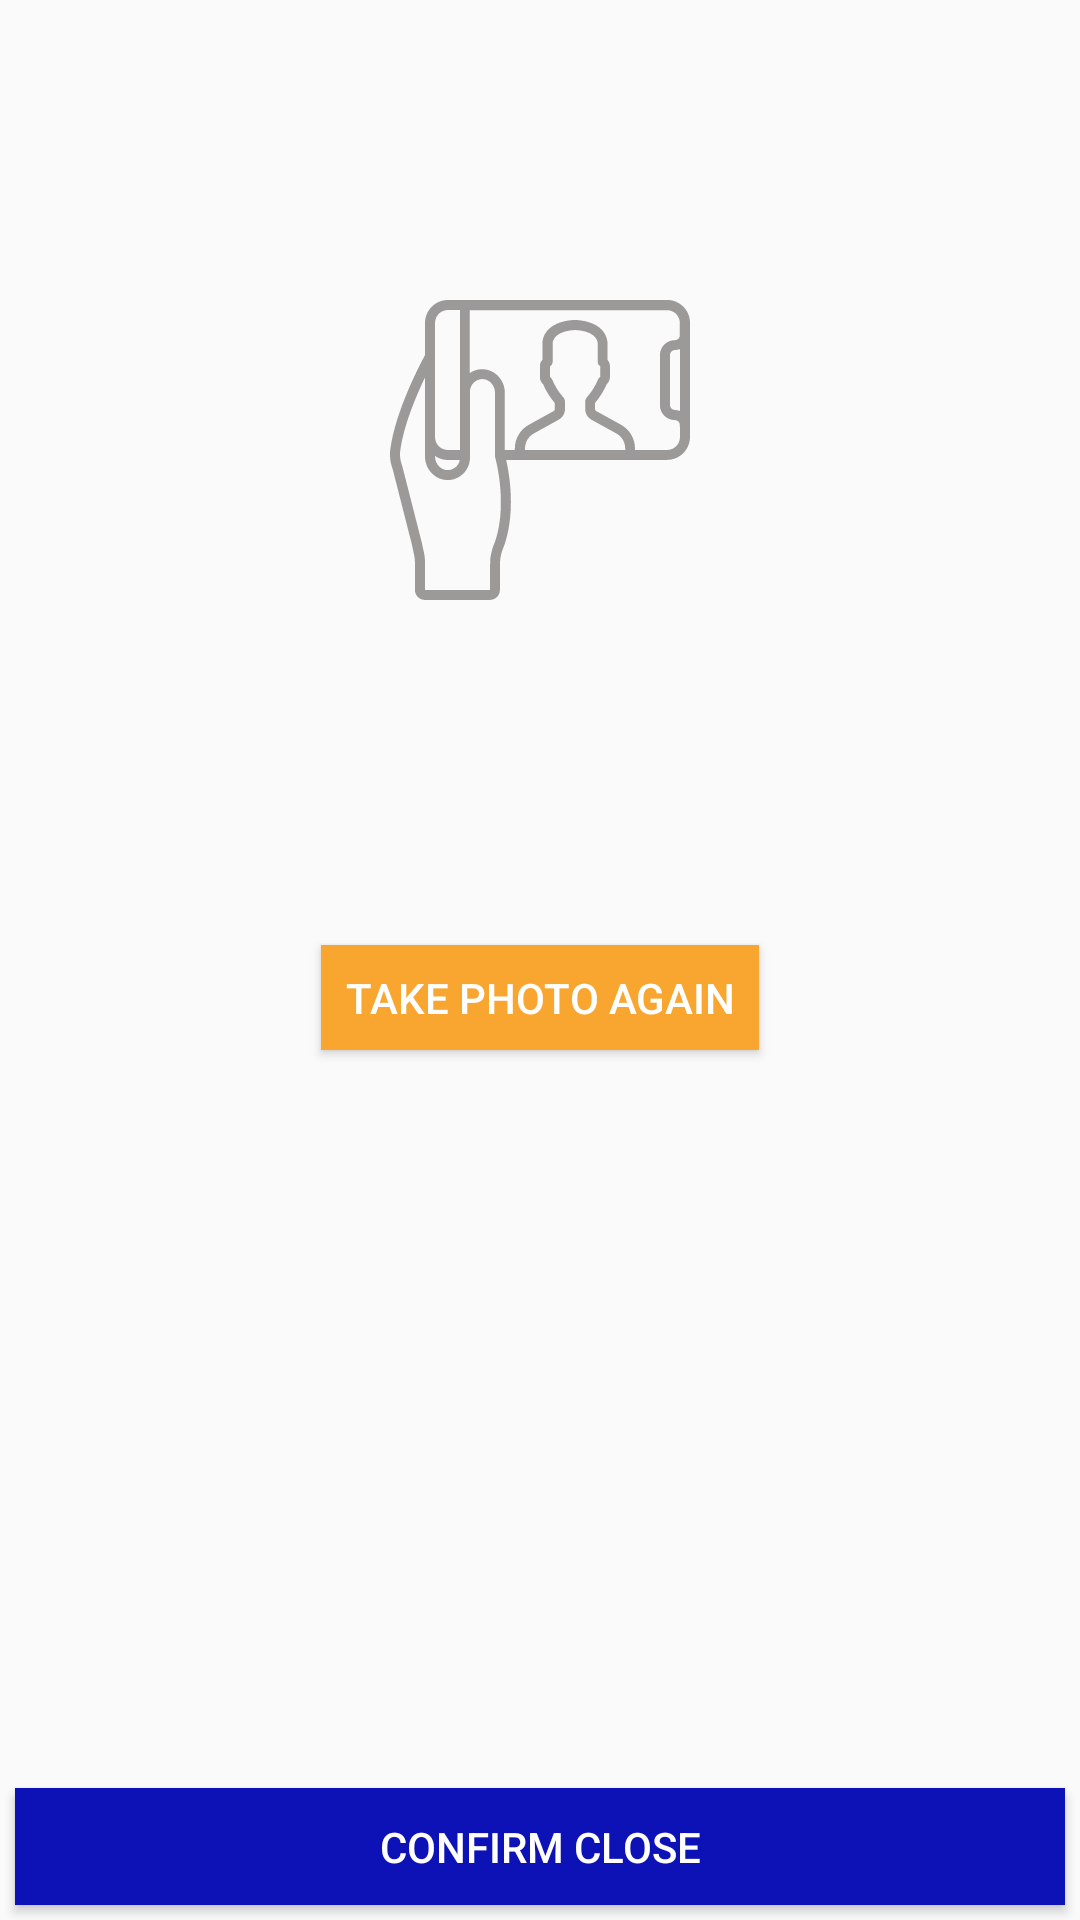

Screen size 1080px×1920px. Icon name, then its box in pixels as detection(x1, y1, x2, y2):
selfie: detection(390, 300, 690, 600)
